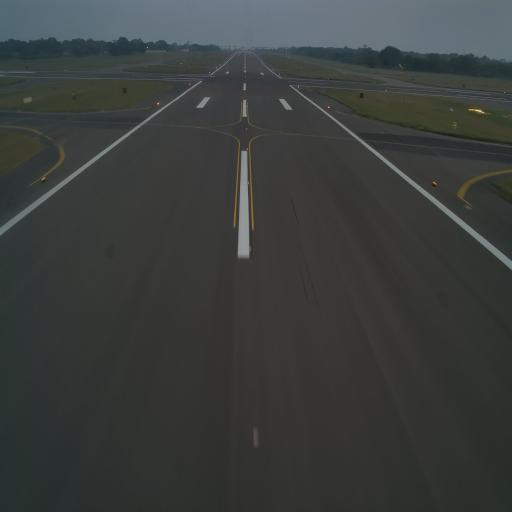on: (250, 424, 260, 452), (430, 176, 439, 191), (39, 170, 47, 184), (248, 243, 255, 256), (246, 177, 251, 187), (244, 145, 249, 153), (244, 124, 249, 132), (326, 103, 330, 110), (156, 100, 160, 106)
